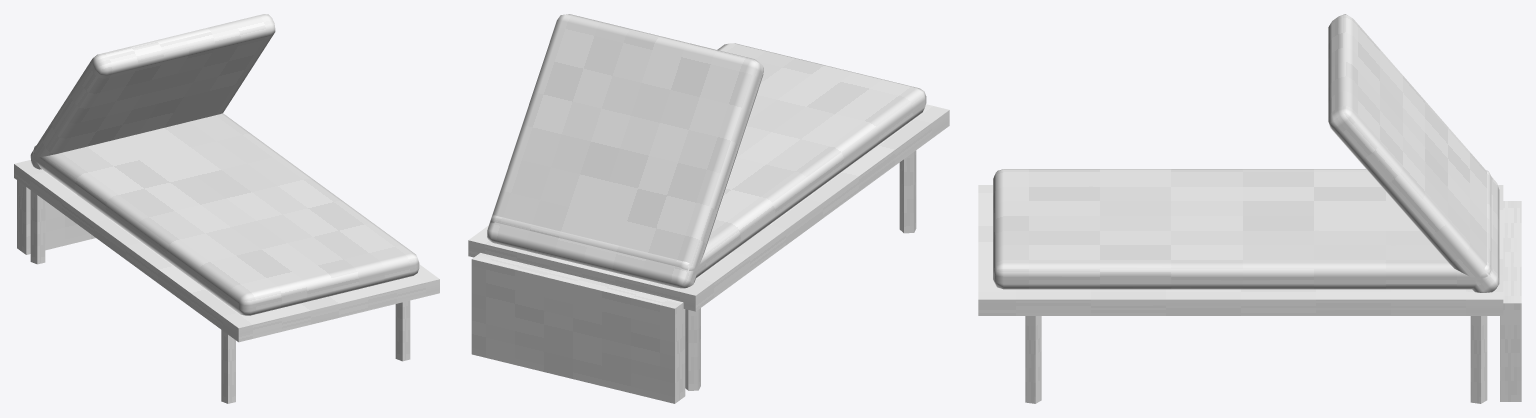
File: p_ai_lounger.glb
3 views of the same model, side by side, from view 1: azimuth 30°, elevation 25°; view 2: azimuth 150°, elevation 25°; view 3: azimuth 270°, elevation 25° (orthographic). The views are drawn at different scales.
Visible parts, largest first — view 1: p_ai_lounger_lod0; view 2: p_ai_lounger_lod0; view 3: p_ai_lounger_lod0.
Part boxes in pixels (x1=…): p_ai_lounger_lod0: x1=14, y1=14, x2=439, y2=403; p_ai_lounger_lod0: x1=468, y1=14, x2=949, y2=403; p_ai_lounger_lod0: x1=978, y1=14, x2=1521, y2=403.
Size of what is drawn, in the model's own units: 0.75 by 0.8808 by 1.5.
Materials: 2 (2 with a texture image).
